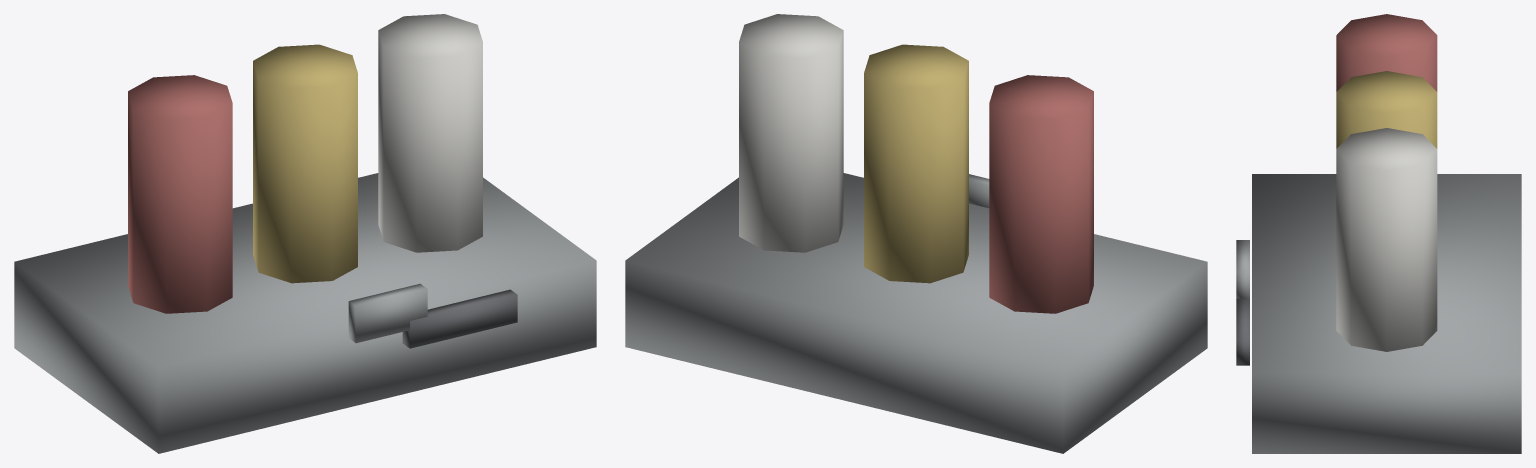
The model's file is condiment_station__weathered.glb.
3 views of the same model, side by side, from view 1: azimuth 30°, elevation 25°; view 2: azimuth 150°, elevation 25°; view 3: azimuth 270°, elevation 25° (orthographic). The views are drawn at different scales.
Parts seen in each view (by area): view 1: world; view 2: world; view 3: world.
Boxes of the visible parts, x1,y1,x2,y2 form: world: (14, 14, 596, 453); world: (625, 14, 1207, 453); world: (1236, 14, 1521, 453).
Size of the model in its own units: 0.42 by 0.2574 by 0.254.
